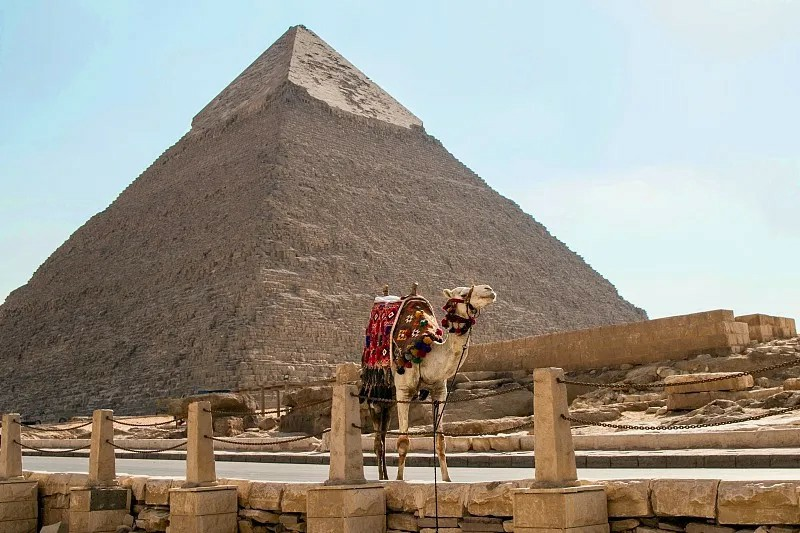Pyramid: (1, 24, 650, 411)
